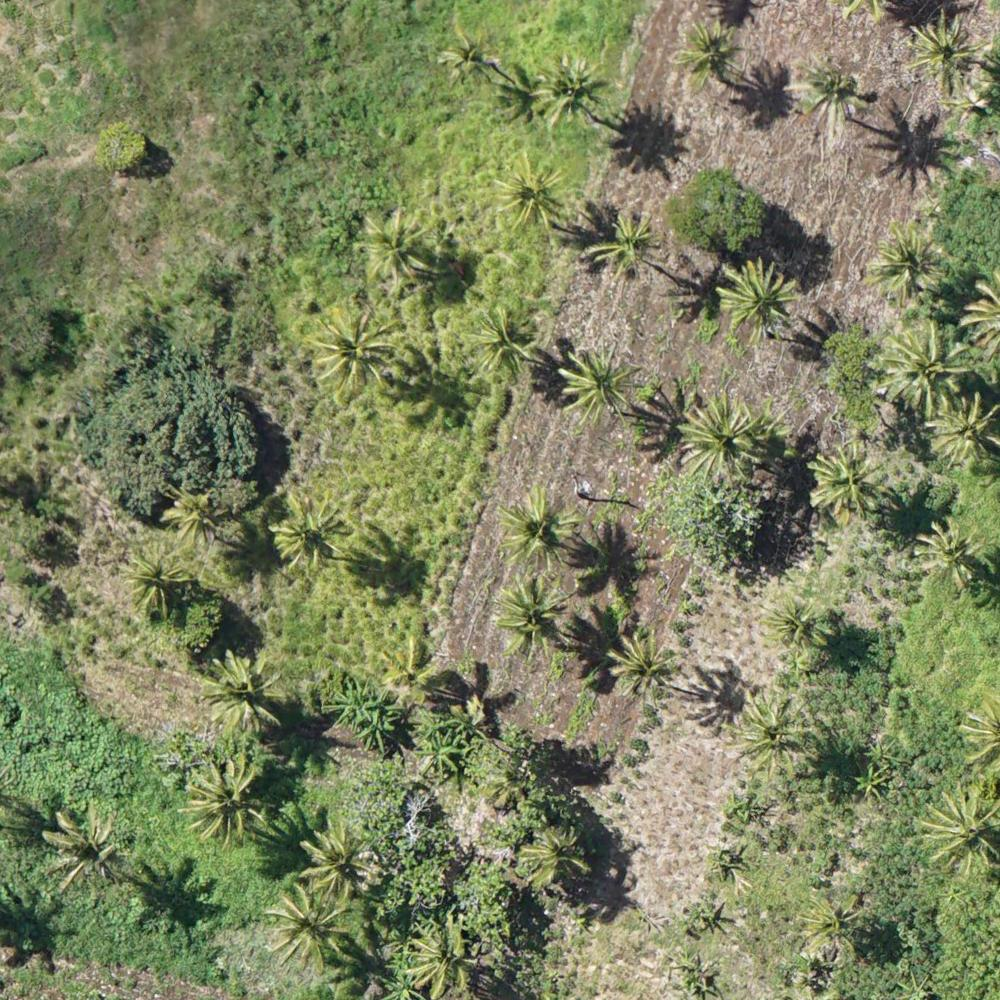Palm: (41, 804, 130, 894), (181, 758, 271, 845), (263, 881, 348, 972), (679, 391, 766, 478), (880, 323, 965, 412), (200, 648, 285, 733), (916, 792, 1000, 877), (788, 54, 875, 135), (307, 309, 391, 392), (489, 154, 564, 242), (729, 694, 812, 773), (359, 205, 439, 285), (714, 260, 795, 339), (906, 9, 983, 92), (487, 574, 566, 651), (496, 489, 578, 563), (561, 348, 640, 423), (296, 817, 372, 894), (531, 51, 604, 131), (804, 446, 885, 516), (409, 925, 489, 994), (870, 226, 946, 296), (929, 397, 1000, 471), (265, 495, 343, 562), (678, 16, 748, 88), (122, 550, 195, 619), (606, 627, 678, 696), (465, 310, 537, 378), (757, 589, 834, 652), (914, 517, 980, 588), (584, 217, 658, 274), (520, 830, 588, 890), (161, 492, 219, 548), (438, 32, 495, 83)
